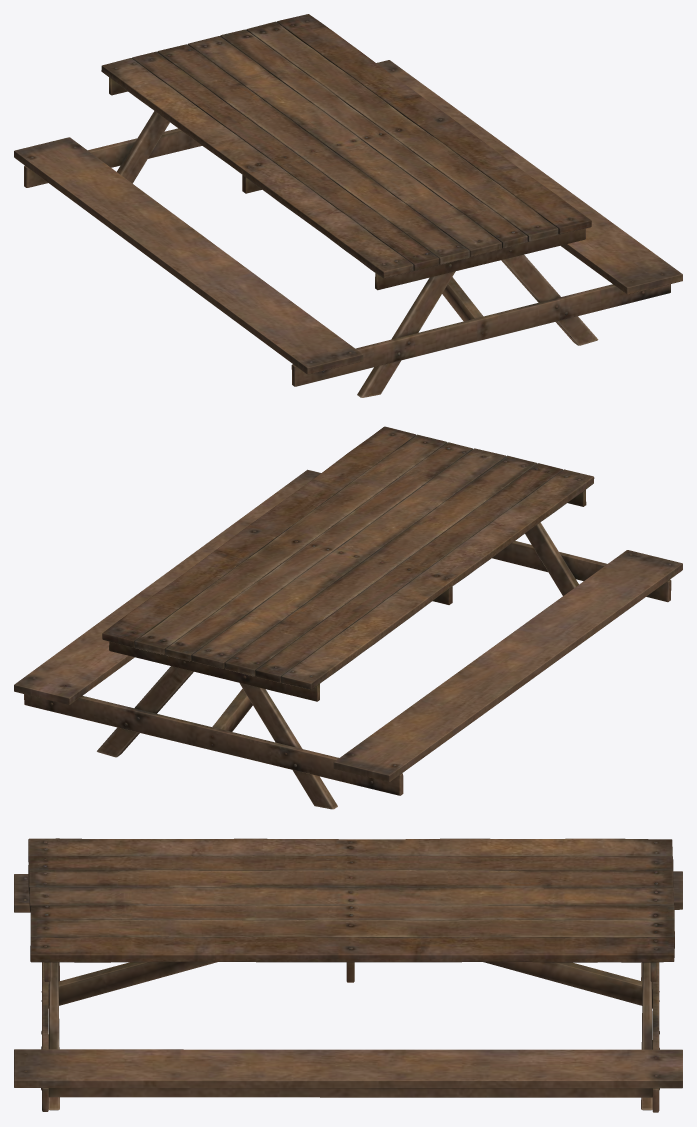
File: wooden_picnic_table.gltf
3 views of the same model, one above another, from view 1: azimuth 30°, elevation 25°; view 2: azimuth 150°, elevation 25°; view 3: azimuth 270°, elevation 25° (orthographic). The views are drawn at different scales.
Parts seen in each view (by area): view 1: wooden_picnic_table; view 2: wooden_picnic_table; view 3: wooden_picnic_table.
Boxes of the visible parts, box(x1,y1,x2,y2) form: wooden_picnic_table: box(14, 14, 682, 397); wooden_picnic_table: box(14, 426, 682, 809); wooden_picnic_table: box(14, 838, 682, 1112).
Size of the model in its own units: 2.24 by 0.746 by 3.02.
2 materials, 2 textured.
